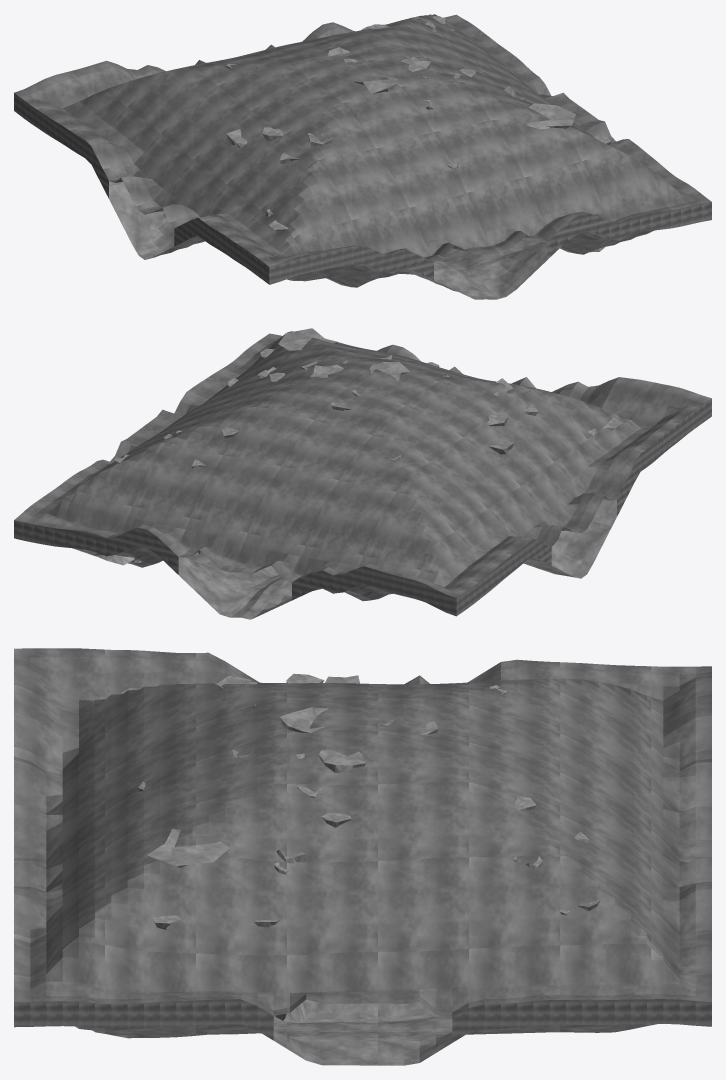
The picture shows the model from 3 angles, top to bottom: view 1: azimuth 30°, elevation 25°; view 2: azimuth 150°, elevation 25°; view 3: azimuth 270°, elevation 25°; orthographic projection. The views are drawn at different scales.
Parts seen in each view (by area): view 1: CavernVault, CavernFloor, CavernWalls, CavernStalactites, CavernColumns; view 2: CavernVault, CavernWalls, CavernFloor, CavernStalactites, CavernColumns; view 3: CavernVault, CavernWalls, CavernFloor, CavernStalactites, CavernColumns.
Boxes of the visible parts, bbox=[...] form: CavernVault: bbox=[14, 14, 711, 266]; CavernFloor: bbox=[109, 181, 654, 299]; CavernWalls: bbox=[14, 93, 711, 284]; CavernStalactites: bbox=[225, 16, 611, 230]; CavernColumns: bbox=[226, 56, 516, 147]; CavernVault: bbox=[14, 331, 711, 598]; CavernWalls: bbox=[14, 398, 711, 616]; CavernFloor: bbox=[72, 499, 616, 619]; CavernStalactites: bbox=[115, 328, 621, 468]; CavernColumns: bbox=[259, 362, 514, 454]; CavernVault: bbox=[14, 648, 711, 1018]; CavernWalls: bbox=[14, 999, 711, 1042]; CavernFloor: bbox=[75, 999, 656, 1065]; CavernStalactites: bbox=[122, 673, 600, 929]; CavernColumns: bbox=[215, 675, 365, 1022].
Size of the model in its own units: 92 by 34.04 by 92.
5 materials, 5 textured.
